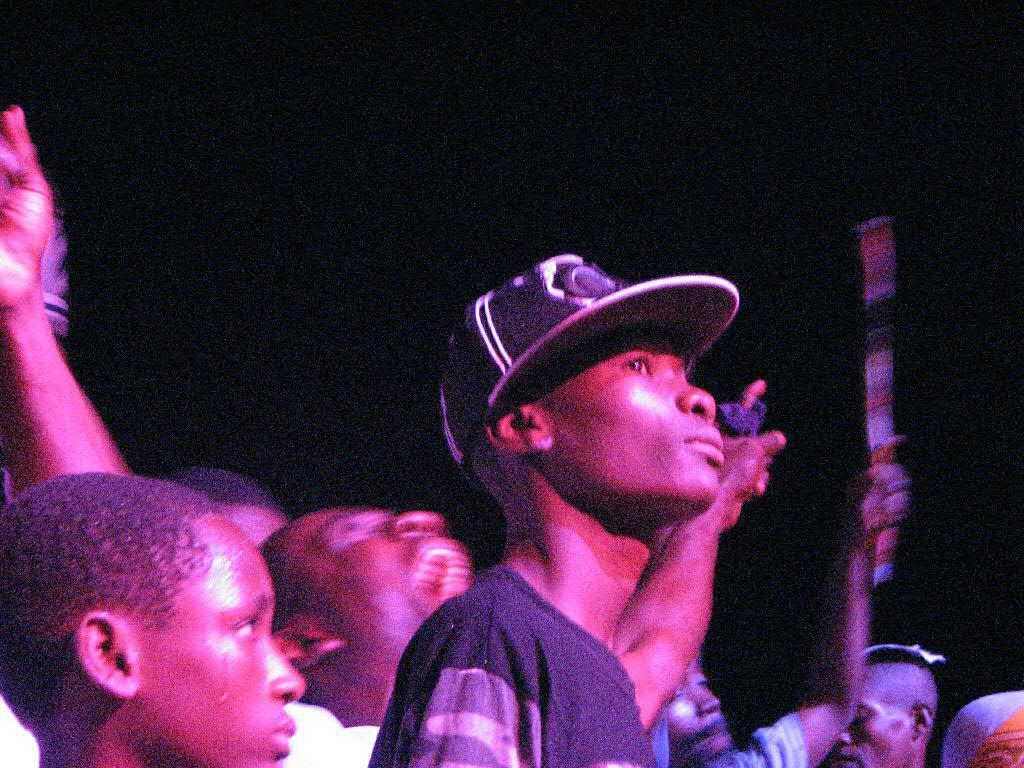Hat: (438, 252, 746, 480)
